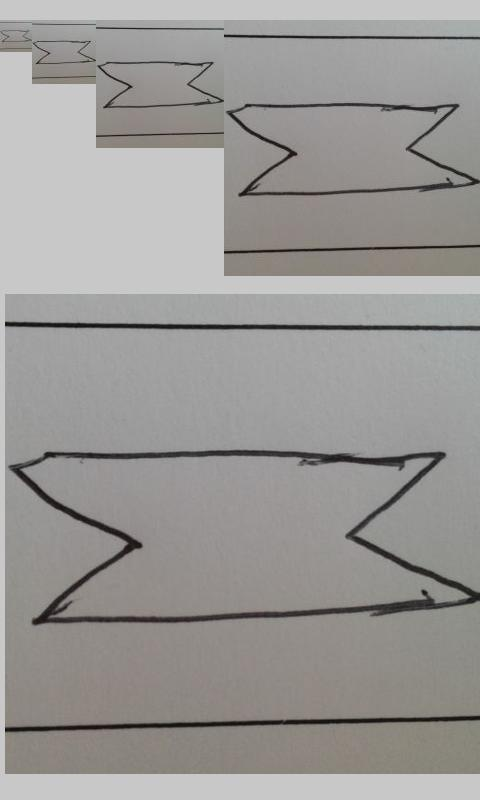edit_text: (11, 445, 480, 631), (225, 102, 480, 197), (97, 60, 223, 109), (32, 40, 97, 65), (1, 29, 32, 43)
